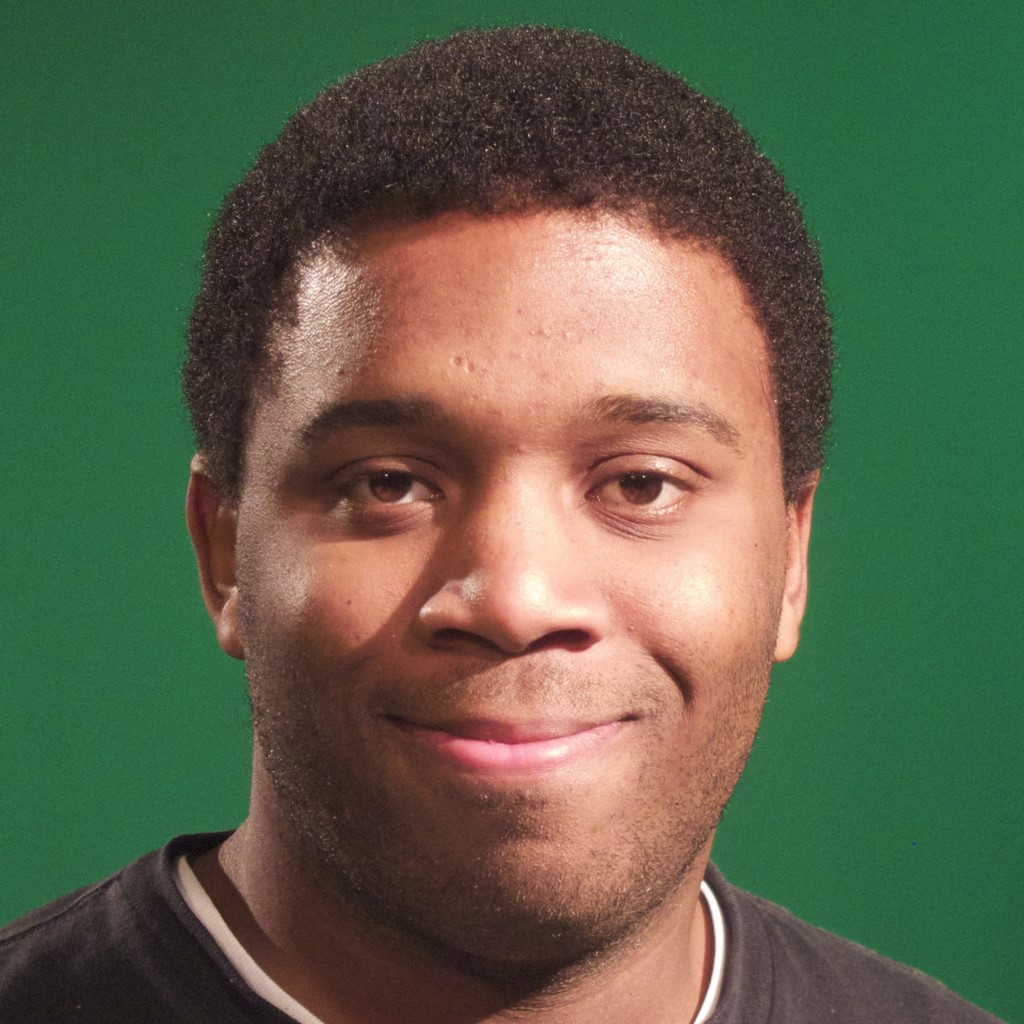sin_mascara: (219, 125, 756, 946)
